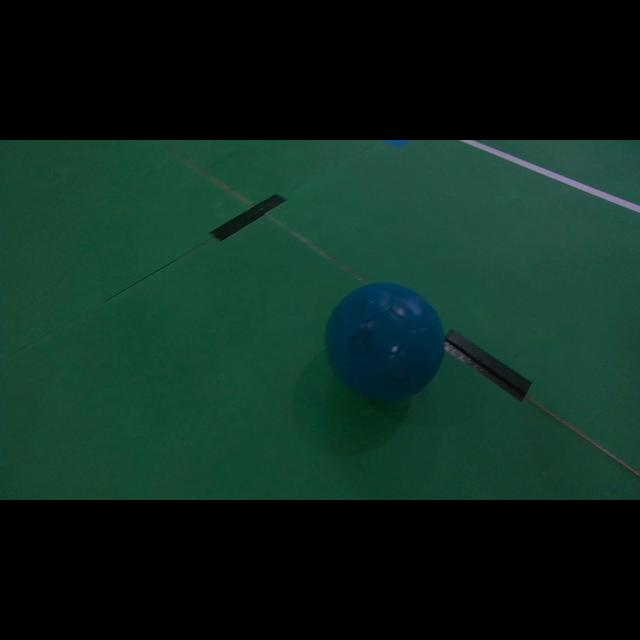B: (326, 284, 445, 401)
